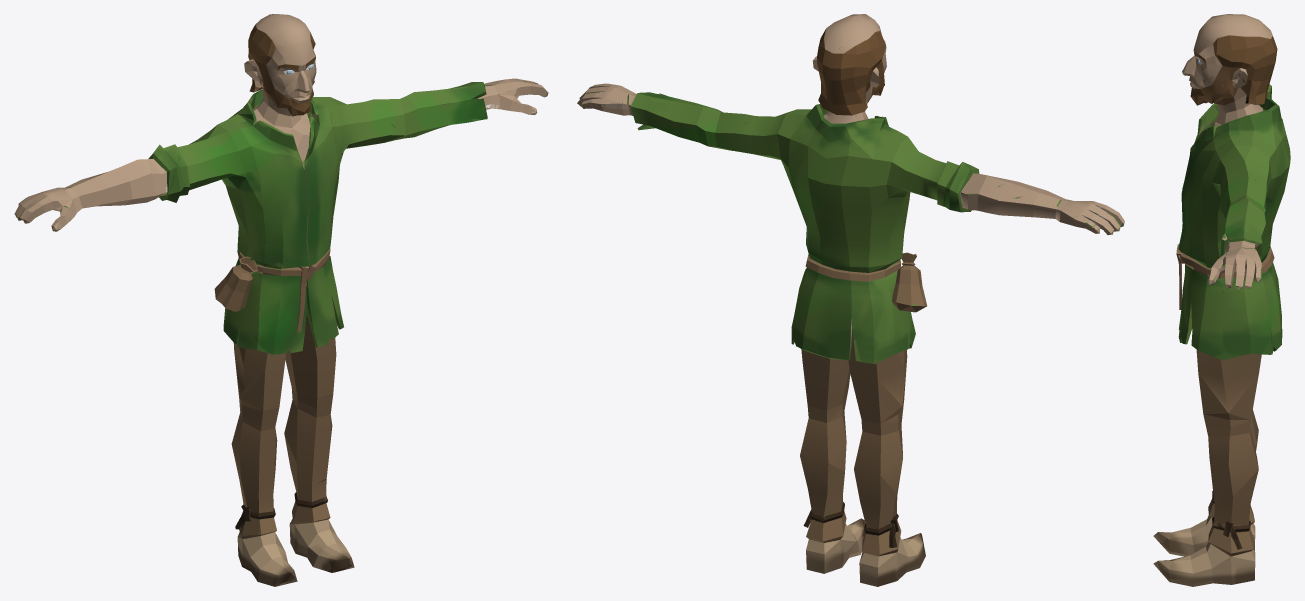
Rendered from Mann2.fbx.
3 renders of one model, left to right at view 1: azimuth 30°, elevation 25°; view 2: azimuth 150°, elevation 25°; view 3: azimuth 270°, elevation 25°, orthographic. The views are drawn at different scales.
Parts seen in each view (by area): view 1: PT_Male_Peasant_01_upper, PT_Male_Peasant_01_lower, PT_Male_Peasant_01_head; view 2: PT_Male_Peasant_01_upper, PT_Male_Peasant_01_lower, PT_Male_Peasant_01_head; view 3: PT_Male_Peasant_01_upper, PT_Male_Peasant_01_lower, PT_Male_Peasant_01_head.
Boxes of the visible parts, x1,y1,x2,y2 form: PT_Male_Peasant_01_upper: (14,78,548,354); PT_Male_Peasant_01_lower: (231,282,354,586); PT_Male_Peasant_01_head: (244,14,316,161); PT_Male_Peasant_01_upper: (577,83,1124,364); PT_Male_Peasant_01_lower: (800,328,925,586); PT_Male_Peasant_01_head: (812,14,886,123); PT_Male_Peasant_01_upper: (1176,84,1290,360); PT_Male_Peasant_01_lower: (1153,350,1261,586); PT_Male_Peasant_01_head: (1182,14,1277,126).
Size of the model in its own units: 185 by 182 by 41.26.
Materials: 3 (3 with a texture image).
